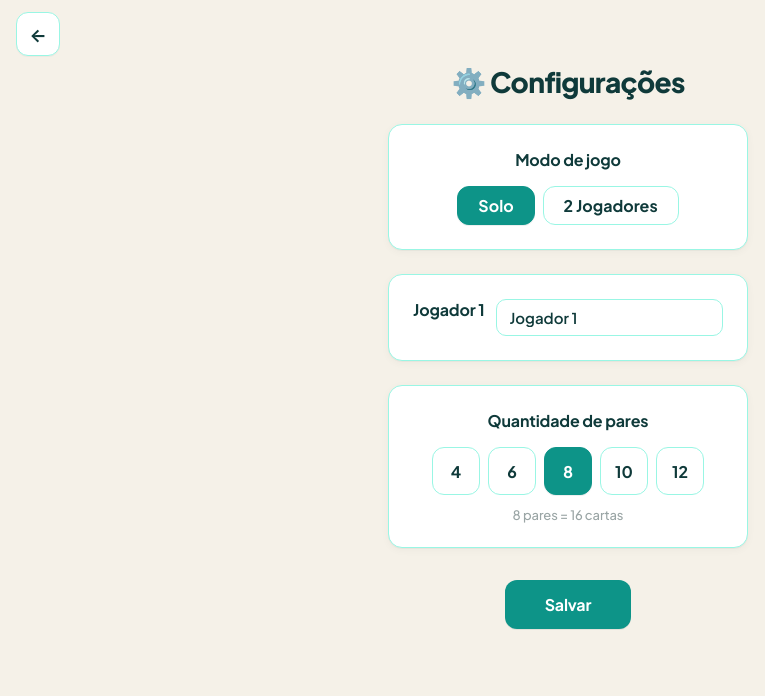
Settings — modo de jogo › alternar para 2 Jogadores exibe input do Jogador 2
Step 1. Click the button "2 Jogadores" → (611, 206), box [543, 186, 679, 225]
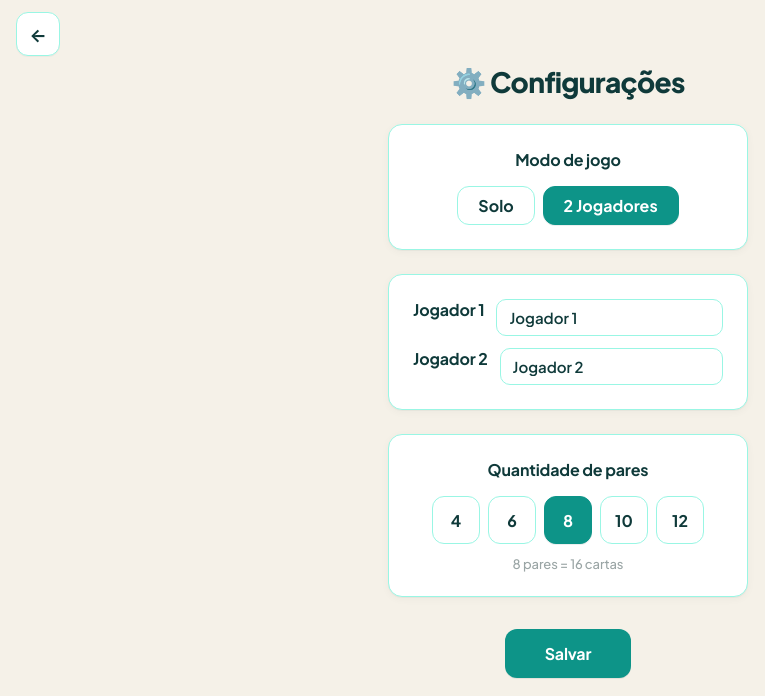
expect the field with placeholder "Jogador 2" next to "Jogador 2" is shown: met, box [500, 348, 723, 385]
